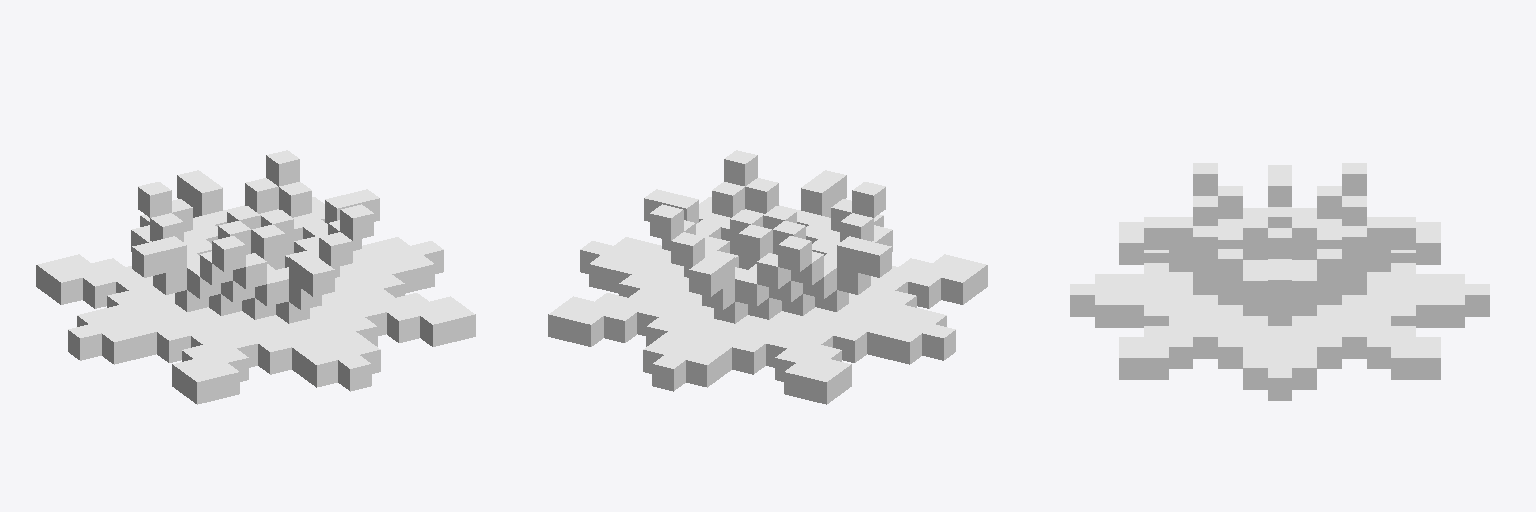
File: Lotus_Flower-0.obj
3 renders of one model, left to right at view 1: azimuth 30°, elevation 25°; view 2: azimuth 150°, elevation 25°; view 3: azimuth 270°, elevation 25°, orthographic.
Parts seen in each view (by area): view 1: object 1; view 2: object 1; view 3: object 1.
Boxes of the visible parts, <box> form: object 1: <box>36,150,475,404</box>; object 1: <box>548,150,987,404</box>; object 1: <box>1070,163,1489,400</box>.
Bounding box in the file's own units: 1.7 × 0.5 × 1.7.